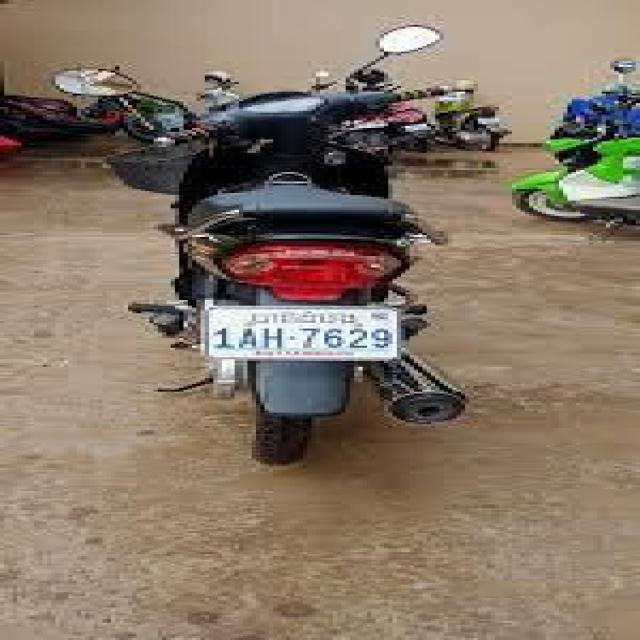Battambang: (252, 310, 364, 327)
